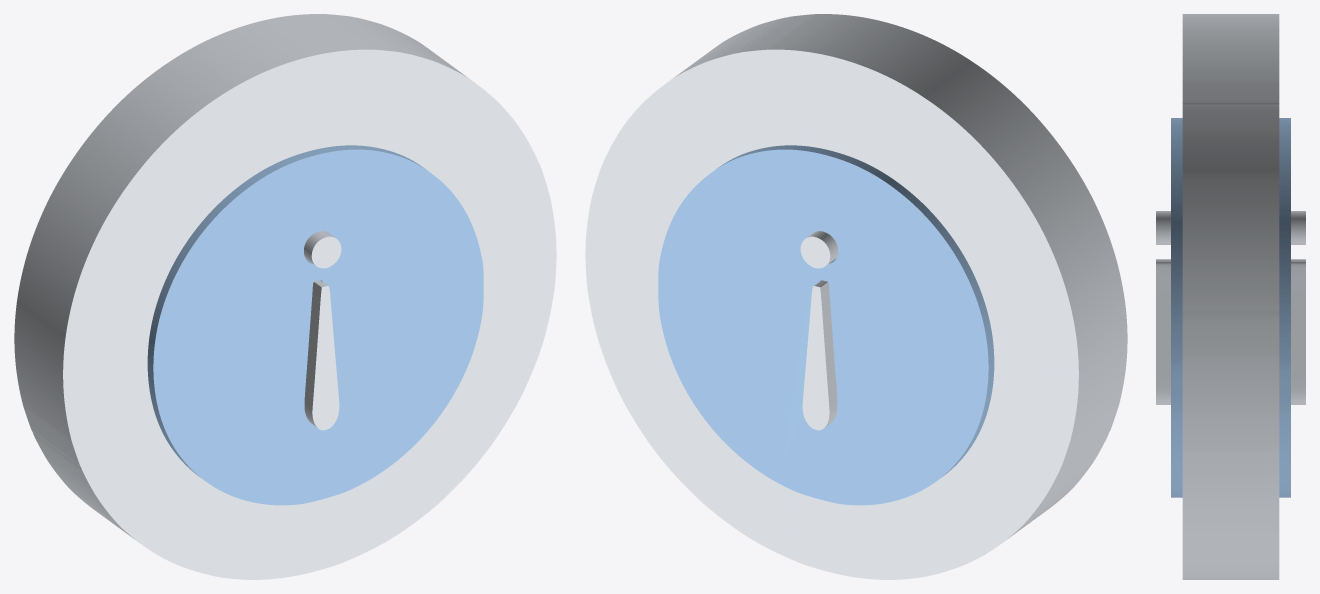
The model's file is point.glb.
The picture shows the model from 3 angles, left to right: view 1: azimuth 30°, elevation 25°; view 2: azimuth 150°, elevation 25°; view 3: azimuth 270°, elevation 25°; orthographic projection.
Visible parts, largest first — view 1: imagetostl_mesh0, imagetostl_mesh3, imagetostl_mesh1, imagetostl_mesh2; view 2: imagetostl_mesh0, imagetostl_mesh3, imagetostl_mesh1, imagetostl_mesh2; view 3: imagetostl_mesh0, imagetostl_mesh3, imagetostl_mesh1, imagetostl_mesh2.
Part boxes in pixels (box(x1,y1,x2,y2)): imagetostl_mesh0: box(14, 14, 556, 579); imagetostl_mesh3: box(147, 145, 483, 505); imagetostl_mesh1: box(304, 280, 339, 430); imagetostl_mesh2: box(304, 231, 341, 268); imagetostl_mesh0: box(585, 14, 1127, 579); imagetostl_mesh3: box(658, 145, 994, 505); imagetostl_mesh1: box(802, 280, 837, 430); imagetostl_mesh2: box(800, 231, 837, 268); imagetostl_mesh0: box(1182, 14, 1279, 579); imagetostl_mesh3: box(1171, 118, 1290, 497); imagetostl_mesh1: box(1156, 259, 1305, 404); imagetostl_mesh2: box(1156, 211, 1305, 244).
Bounding box in the file's own units: 58.52 × 58.5 × 15.5.
